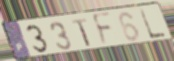3: (26, 22, 50, 56), (49, 21, 72, 51)
6: (117, 10, 143, 43)
F: (91, 11, 114, 49)
L: (138, 8, 168, 41)
T: (70, 17, 92, 47)
